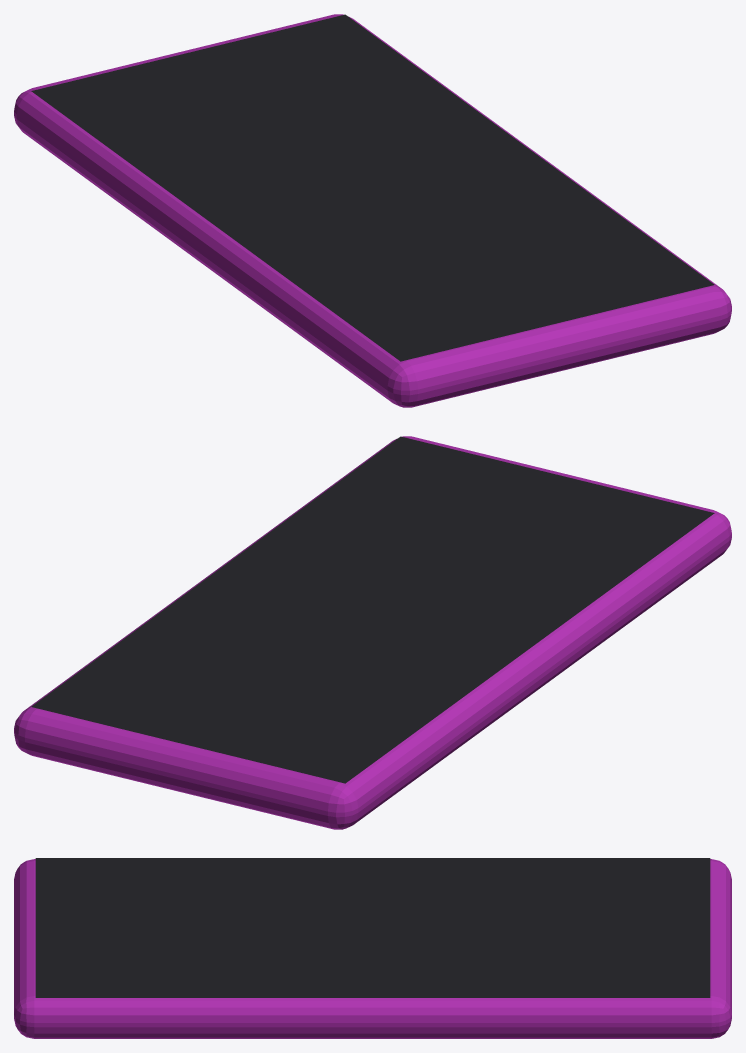
File: vivo-y-model-51-flagship-2025.glb
3 renders of one model, top to bottom at view 1: azimuth 30°, elevation 25°; view 2: azimuth 150°, elevation 25°; view 3: azimuth 270°, elevation 25°, orthographic. The views are drawn at different scales.
Parts seen in each view (by area): view 1: Phone_Screen, Phone_Body; view 2: Phone_Screen, Phone_Body; view 3: Phone_Screen, Phone_Body.
Part boxes in pixels (x1=…): Phone_Screen: x1=31, y1=14, x2=714, y2=361; Phone_Body: x1=14, y1=14, x2=731, y2=407; Phone_Screen: x1=31, y1=436, x2=714, y2=783; Phone_Body: x1=14, y1=436, x2=731, y2=829; Phone_Screen: x1=35, y1=858, x2=710, y2=997; Phone_Body: x1=14, y1=859, x2=731, y2=1038.
Size of the model in its own units: 0.0732 by 0.0093 by 0.1459.
